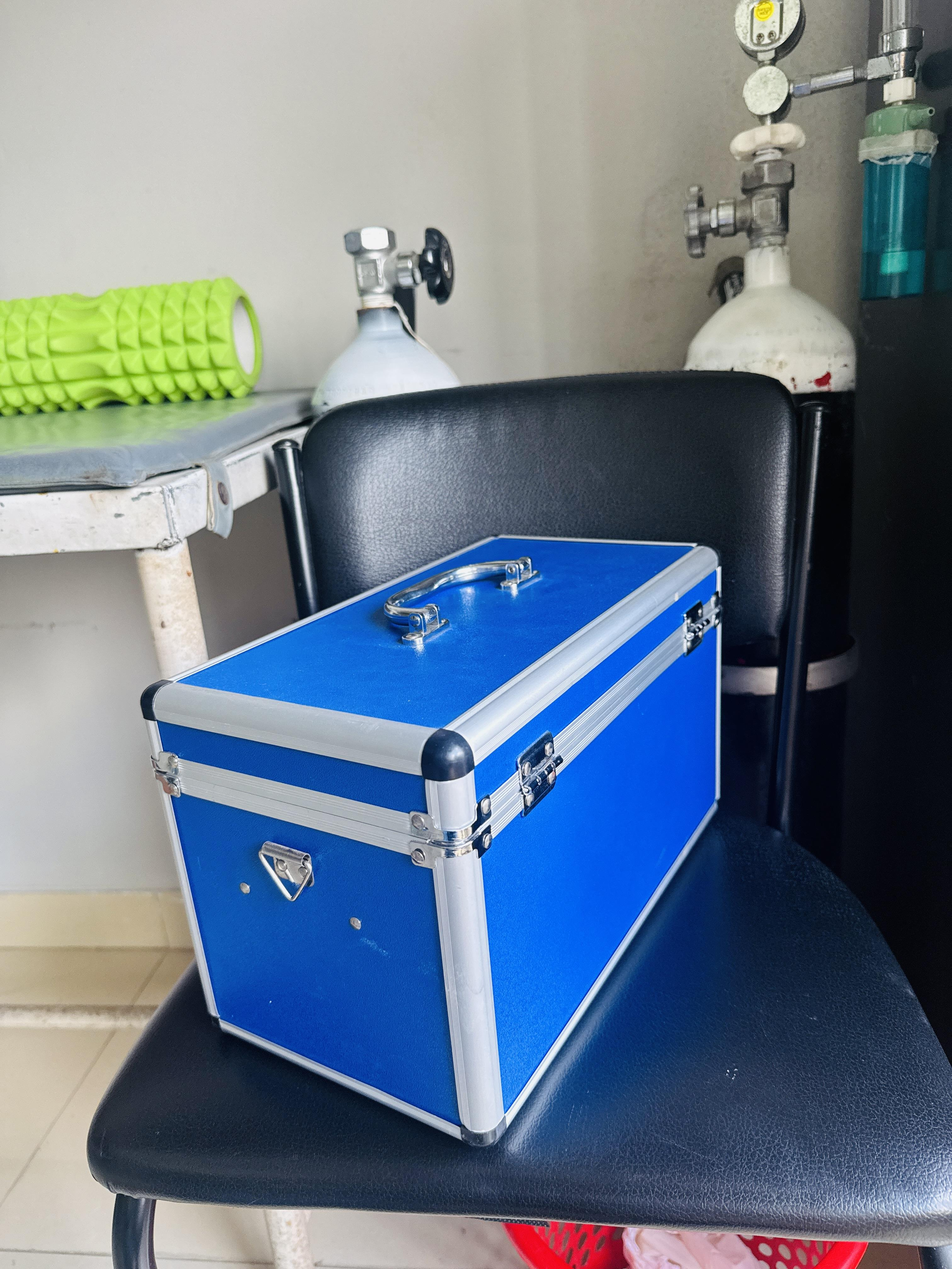FirstAidBox: (124, 487, 766, 1179)
